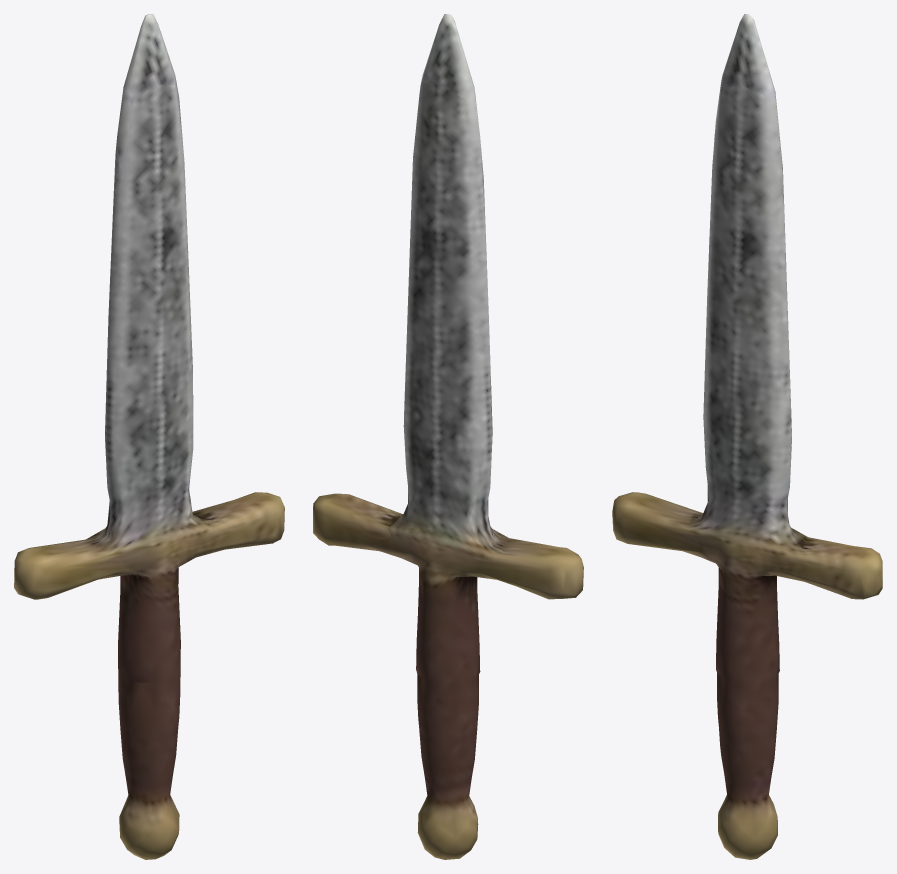
Rendered from Dagger2_SR.glb.
3 views of the same model, side by side, from view 1: azimuth 30°, elevation 25°; view 2: azimuth 150°, elevation 25°; view 3: azimuth 330°, elevation 25° (orthographic).
Visible parts, largest first — view 1: Dagger 2.001; view 2: Dagger 2.001; view 3: Dagger 2.001.
Part boxes in pixels (box(x1,y1,x2,y2)): Dagger 2.001: box(14, 14, 284, 859); Dagger 2.001: box(313, 14, 583, 859); Dagger 2.001: box(612, 14, 882, 859).
Bounding box in the file's own units: 0.349 × 1.05 × 0.0762.
1 material, 1 textured.
